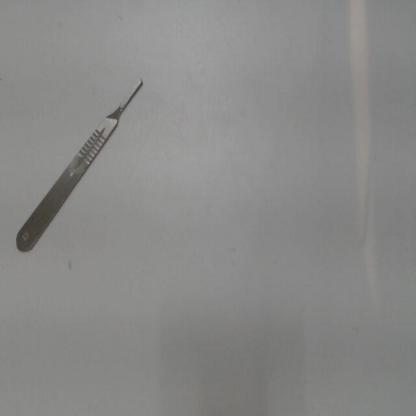No.4 BP Handle: (7, 68, 161, 262)
